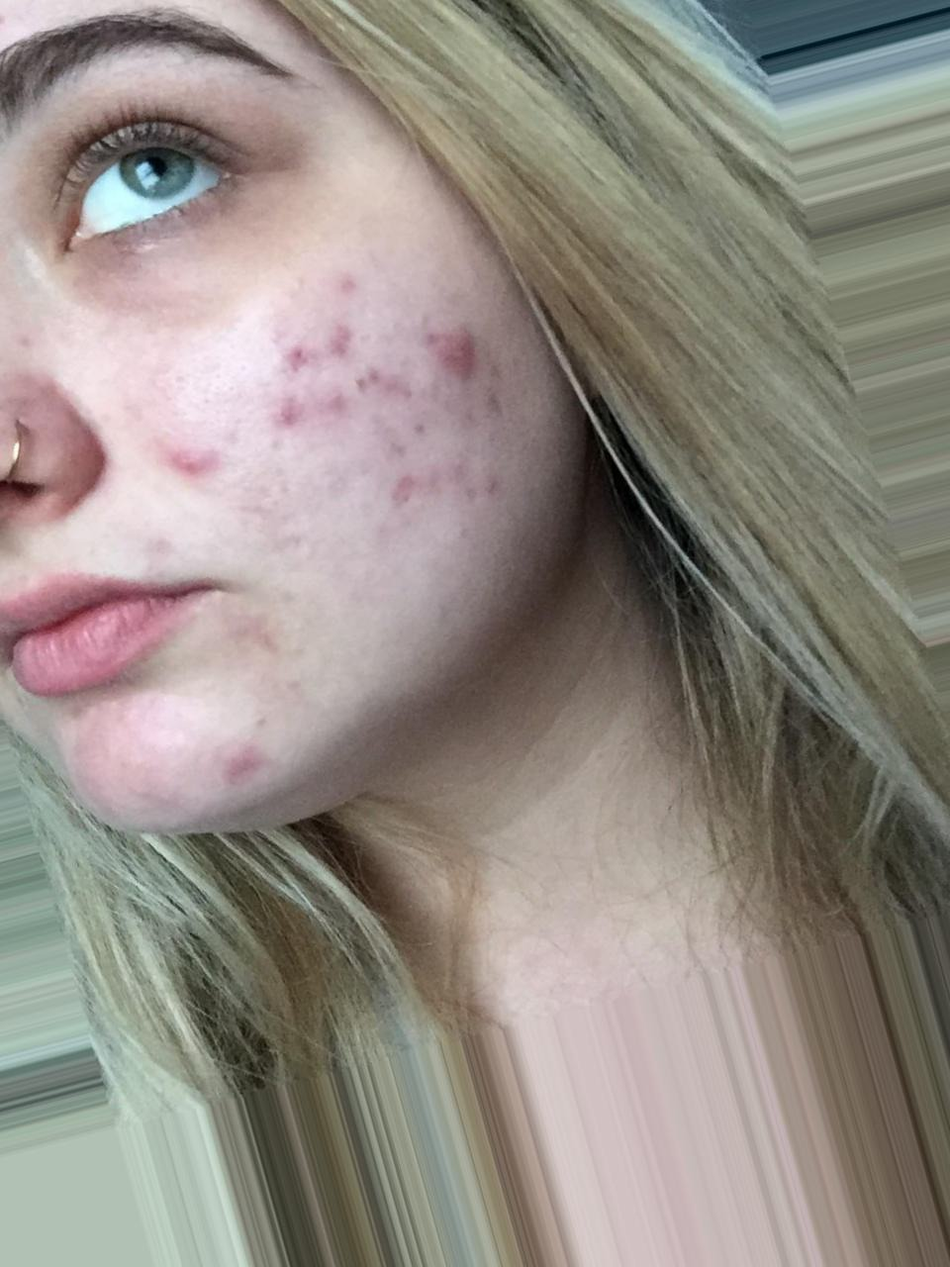Acne: (191, 729, 290, 798), (152, 429, 231, 498), (264, 313, 313, 376), (317, 267, 376, 307)
